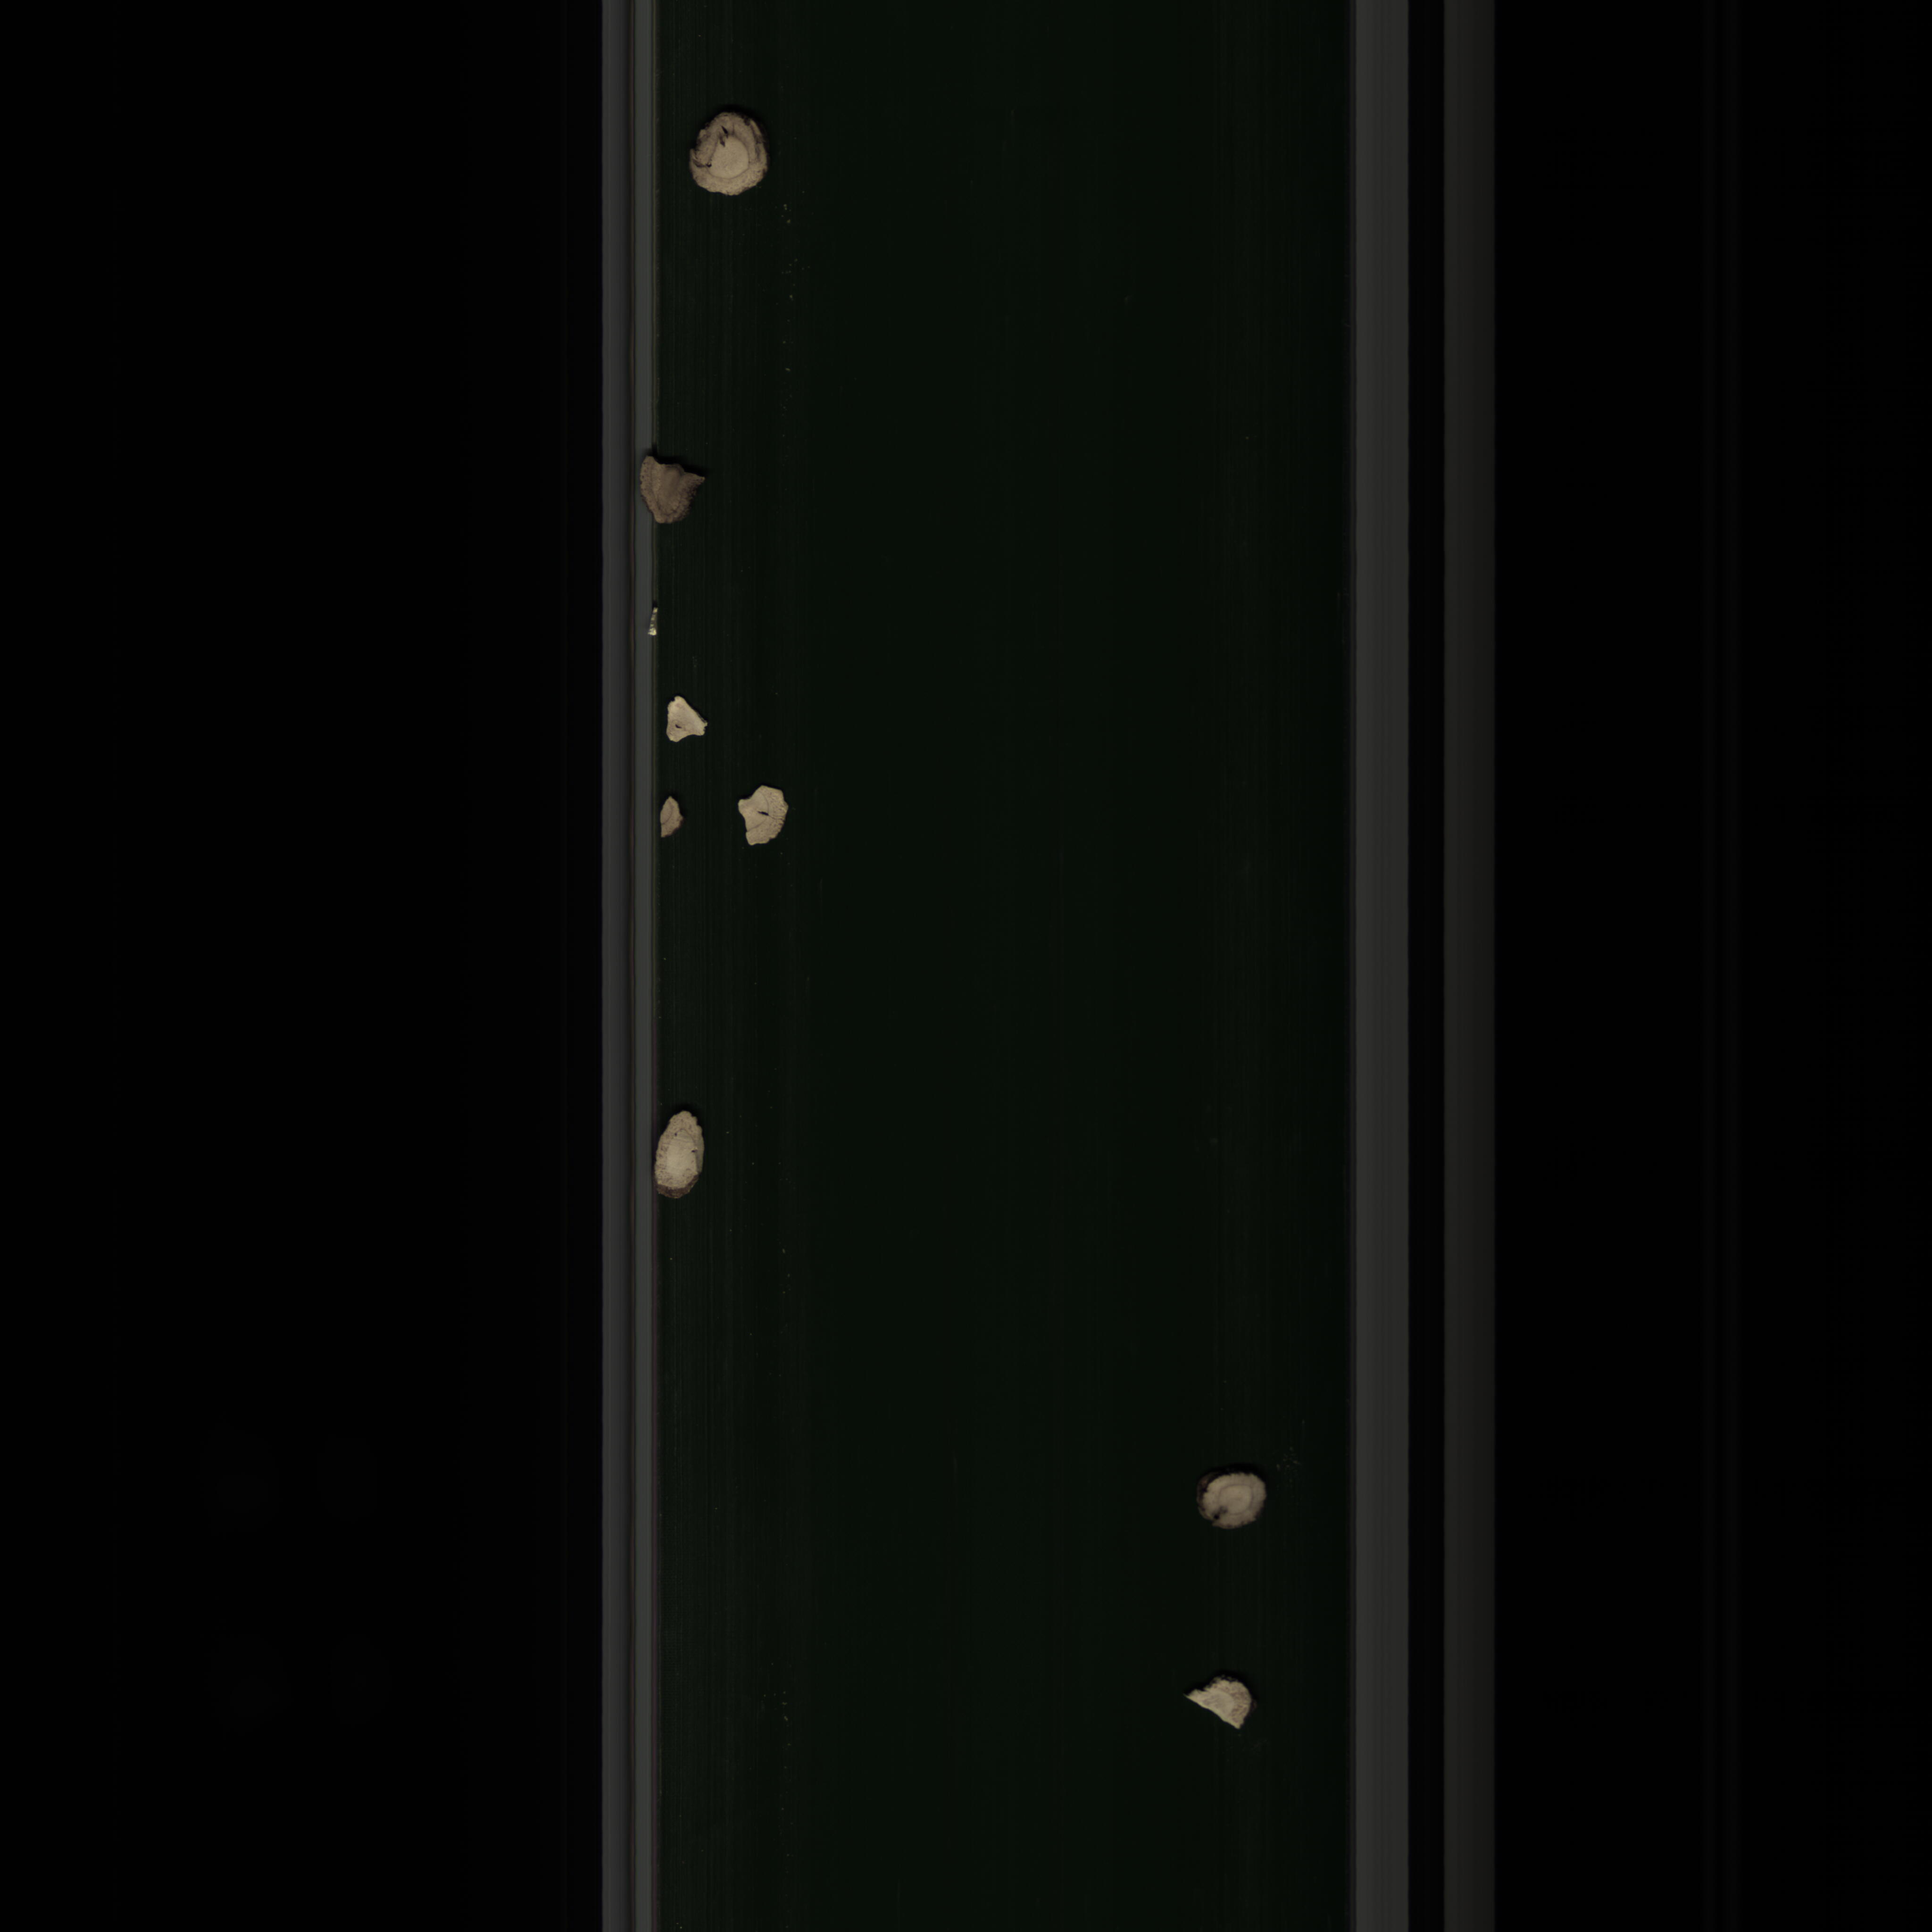bark: (646, 598, 678, 646)
debris: (1166, 1667, 1270, 1744), (732, 778, 800, 853), (656, 690, 720, 757), (658, 791, 688, 844)
hole: (688, 104, 780, 202)
moldy: (635, 449, 708, 531), (1192, 1467, 1274, 1530)
